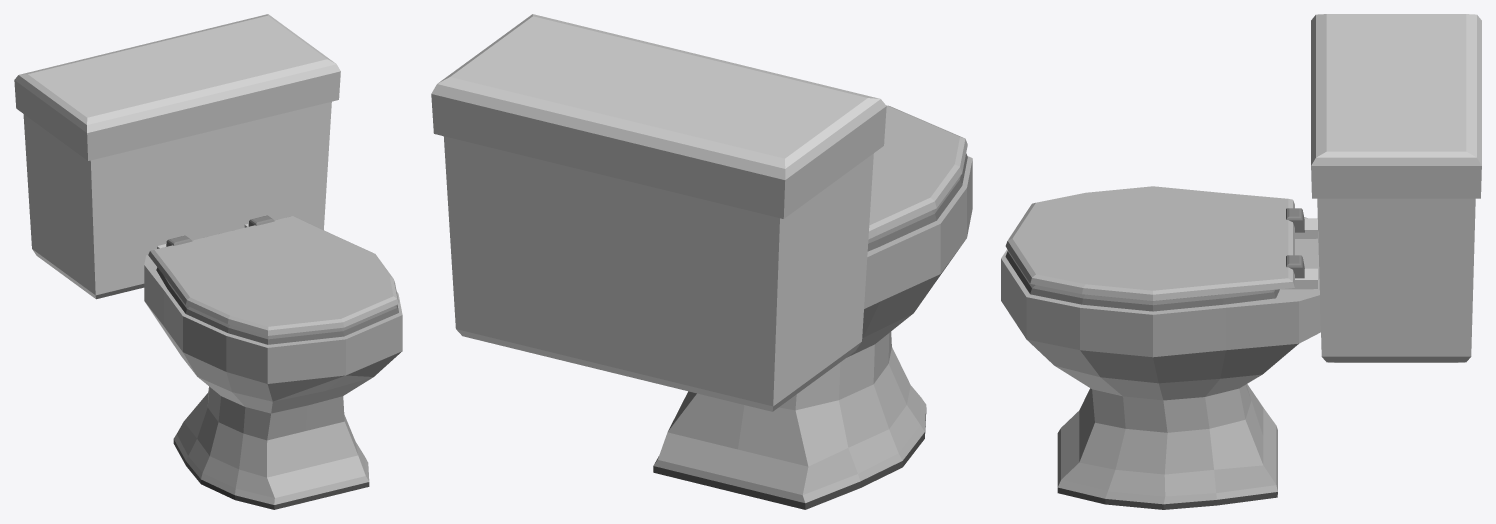
Rendered from Toilet.fbx.
The picture shows the model from 3 angles, left to right: view 1: azimuth 30°, elevation 25°; view 2: azimuth 150°, elevation 25°; view 3: azimuth 270°, elevation 25°; orthographic projection. The views are drawn at different scales.
Visible parts, largest first — view 1: Toilet; view 2: Toilet; view 3: Toilet.
Boxes of the visible parts, x1,y1,x2,y2 form: Toilet: [14, 14, 402, 509]; Toilet: [431, 14, 972, 509]; Toilet: [1001, 14, 1481, 509].
Size of the model in its own units: 74.38 by 91.48 by 104.
1 material, 1 textured.
